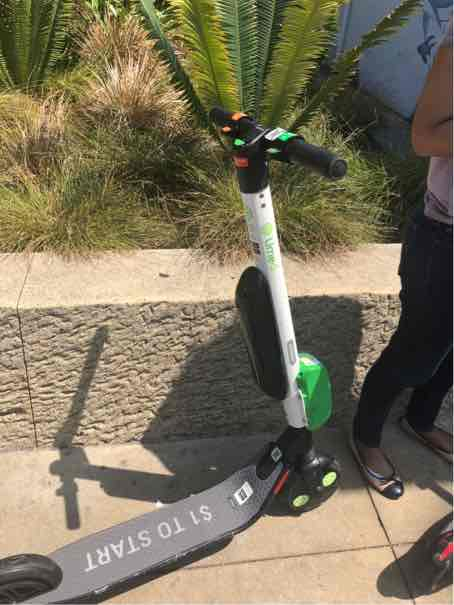scooter: (3, 99, 352, 605)
